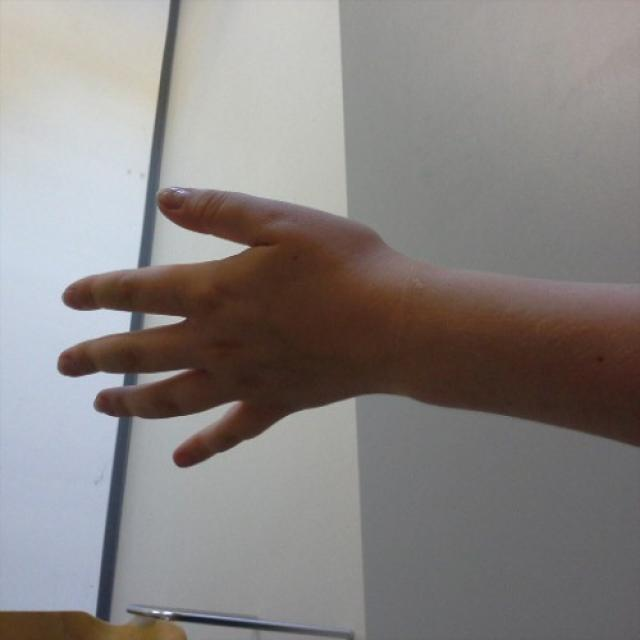paper: (50, 182, 394, 475)
